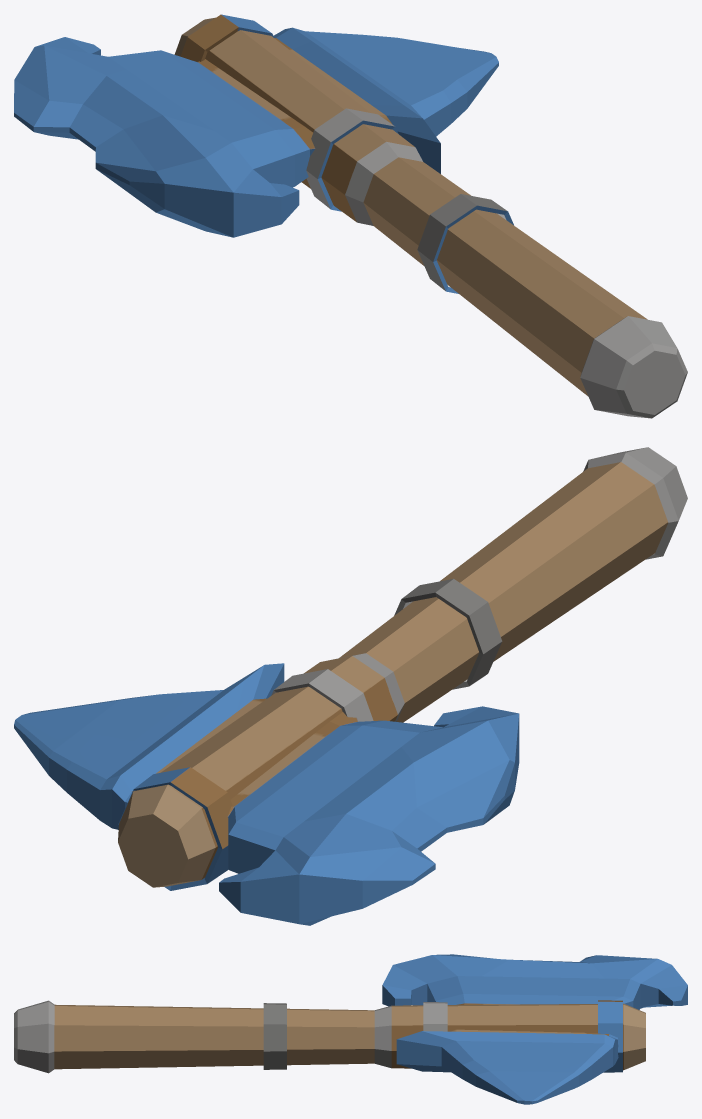
File: hacha.obj
3 views of the same model, one above another, from view 1: azimuth 30°, elevation 25°; view 2: azimuth 150°, elevation 25°; view 3: azimuth 270°, elevation 25° (orthographic). The views are drawn at different scales.
Parts seen in each view (by area): view 1: Filo_Cube.003; view 2: Filo_Cube.003; view 3: Filo_Cube.003.
Part boxes in pixels (x1,y1,x2,y2): Filo_Cube.003: (14, 14, 687, 418); Filo_Cube.003: (14, 447, 687, 925); Filo_Cube.003: (14, 954, 687, 1104).
Bounding box in the file's own units: 7.53 × 1.75 × 14.95.
1 material, 1 textured.
